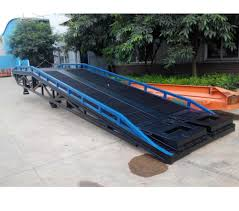Yard Ramp: (11, 62, 236, 166)
